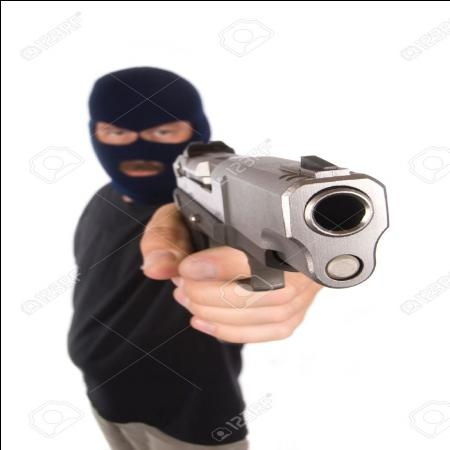Pistol: (154, 127, 390, 296)
